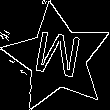M_S: (30, 29, 85, 87)
